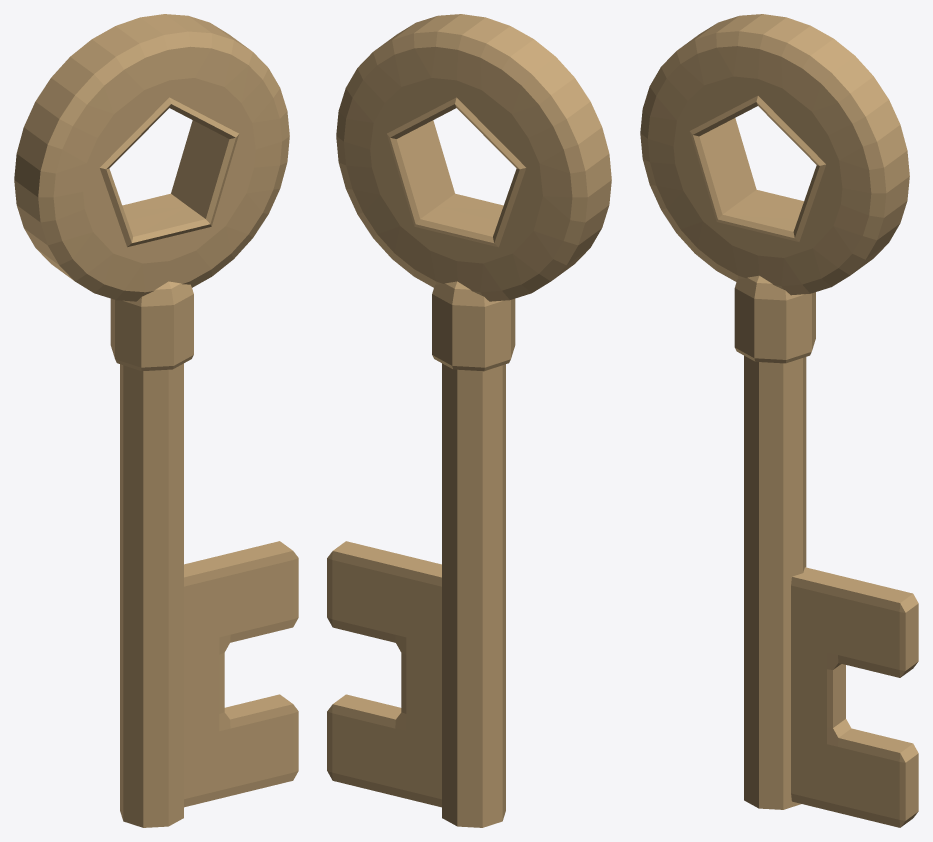
File: theme02_key05.fbx
3 renders of one model, left to right at view 1: azimuth 30°, elevation 25°; view 2: azimuth 150°, elevation 25°; view 3: azimuth 330°, elevation 25°, orthographic. The views are drawn at different scales.
Parts seen in each view (by area): view 1: key05head.003; view 2: key05head.003; view 3: key05head.003.
Part boxes in pixels (<box>): key05head.003: <box>14,14,298,827</box>; key05head.003: <box>327,14,611,827</box>; key05head.003: <box>640,14,918,827</box>.
Bounding box in the file's own units: 10.64 × 30.13 × 2.98.
